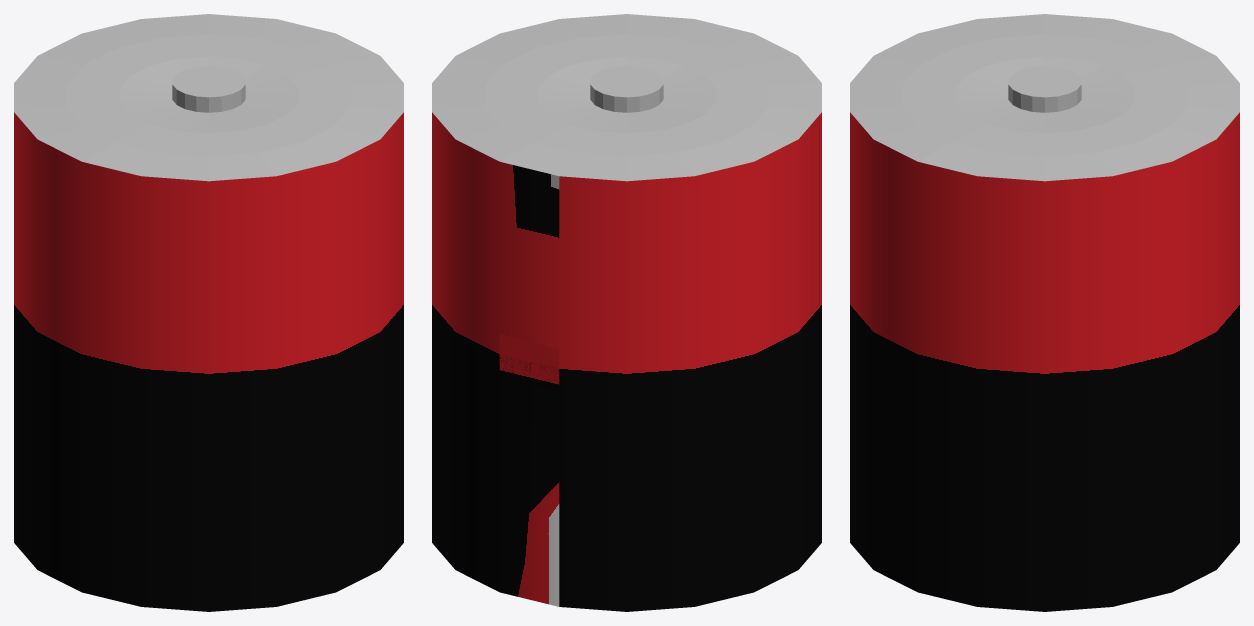
The model's file is battery.fbx.
The picture shows the model from 3 angles, left to right: view 1: azimuth 30°, elevation 25°; view 2: azimuth 150°, elevation 25°; view 3: azimuth 270°, elevation 25°; orthographic projection.
Parts seen in each view (by area): view 1: Cylinder001; view 2: Cylinder001; view 3: Cylinder001.
Boxes of the visible parts, left/top/right/bottom form: Cylinder001: left=14, top=14, right=403, bottom=611; Cylinder001: left=432, top=14, right=821, bottom=611; Cylinder001: left=850, top=14, right=1239, bottom=611.
Size of the model in its own units: 5.43 by 6.82 by 5.34.
